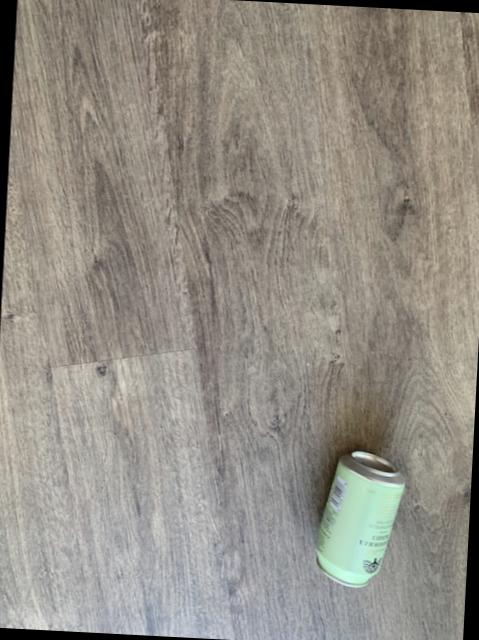metal: (314, 452, 402, 587)
